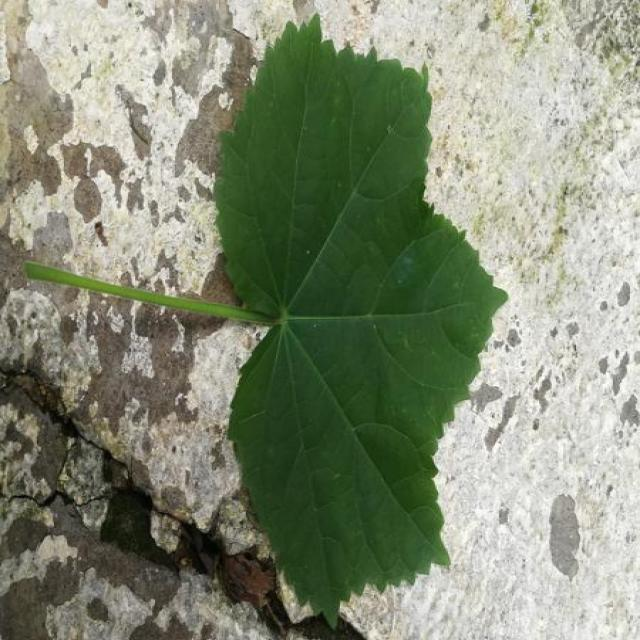kasamburga: (217, 18, 505, 622)
